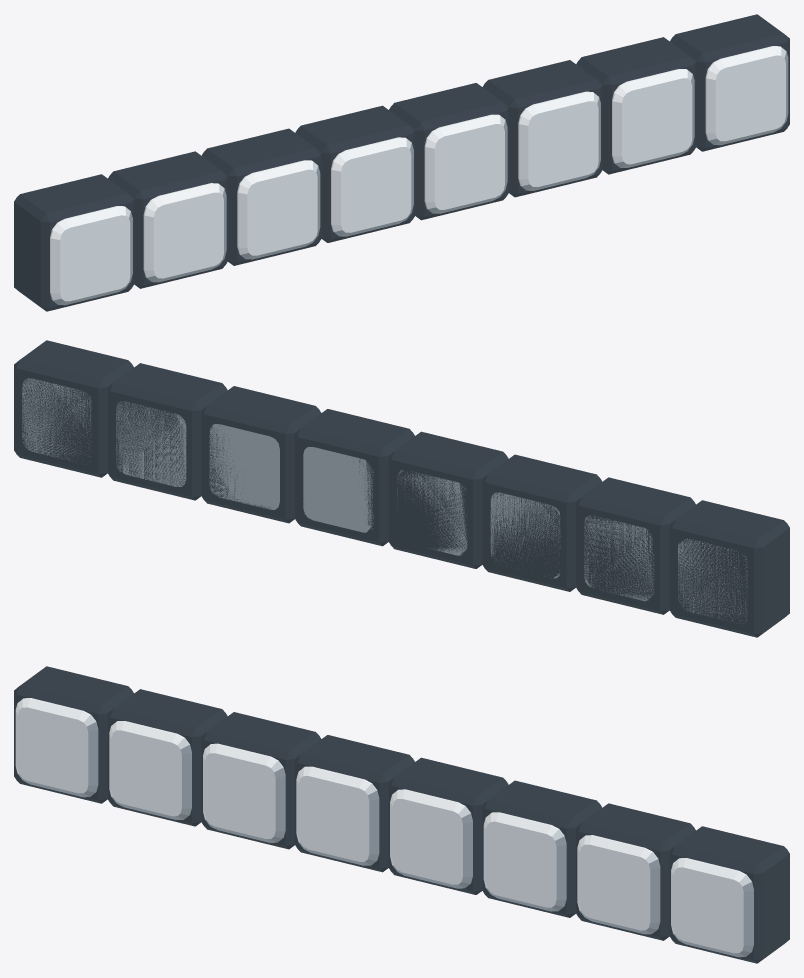
File: Terrain_Block8x1.gltf
3 views of the same model, one above another, from view 1: azimuth 30°, elevation 25°; view 2: azimuth 150°, elevation 25°; view 3: azimuth 330°, elevation 25° (orthographic).
Visible parts, largest first — view 1: Terrain_Block8x1_baked; view 2: Terrain_Block8x1_baked; view 3: Terrain_Block8x1_baked.
Boxes of the visible parts, bbox=[...] form: Terrain_Block8x1_baked: bbox=[14, 14, 789, 311]; Terrain_Block8x1_baked: bbox=[14, 340, 789, 637]; Terrain_Block8x1_baked: bbox=[14, 666, 789, 963].
Bounding box in the file's own units: 8 × 1 × 0.7.
